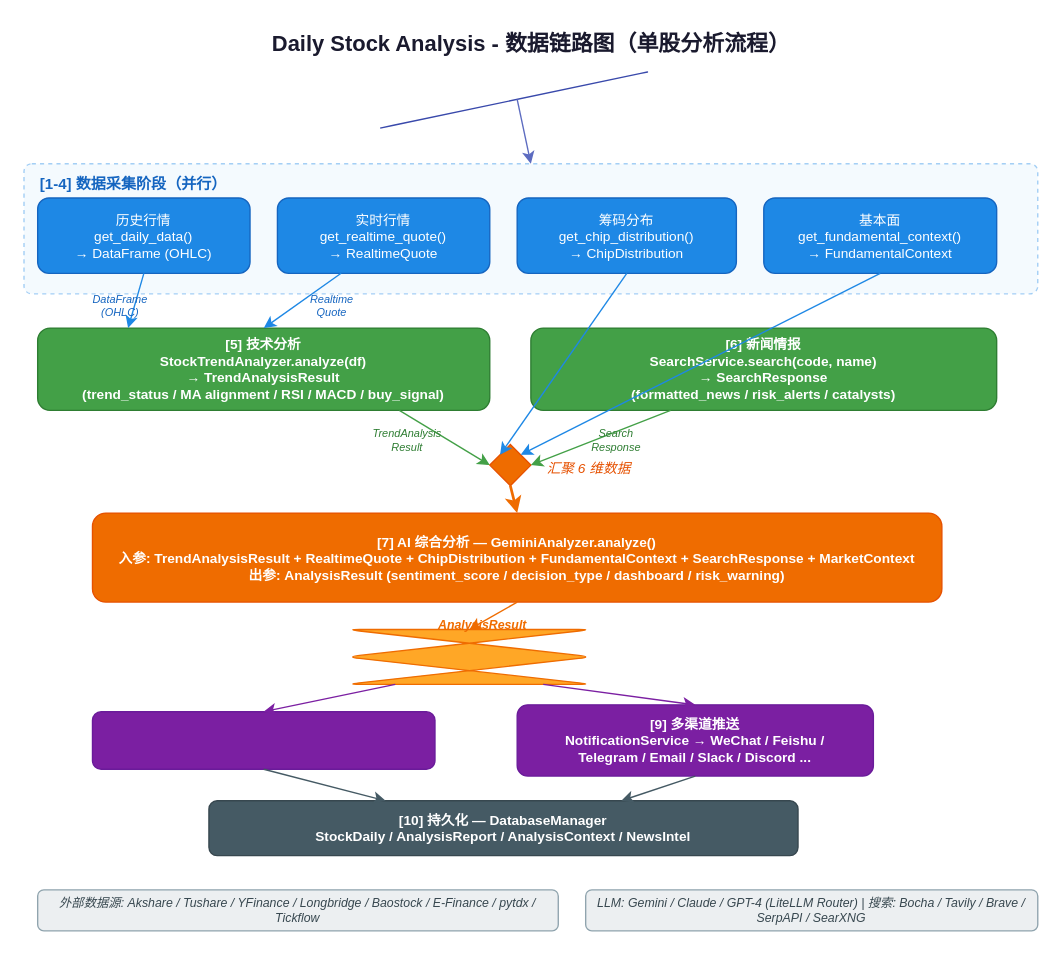
Some shapes in this 1062 by 955 pixel diagram are drawn without their labels. The shapes that lost their labels are listed below. From the top down, each one's centre as x and y in pixels, then its label:
pixel 516 98: 用户请求 stock_code + report_type
pixel 469 656: 内容完整性校验 check_content_integrity()
pixel 263 739: [8] 报告格式化 Formatters → MD / JSON / HTML / Image
